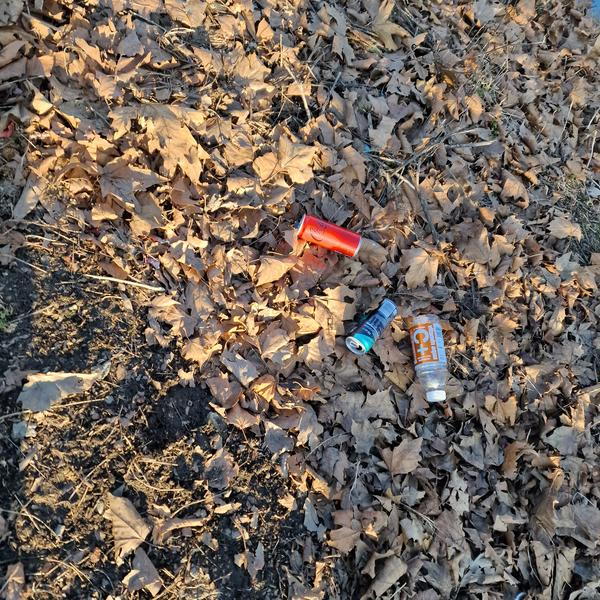can: (340, 293, 403, 359), (295, 213, 364, 259)
plastic_bottle: (407, 311, 453, 405)
